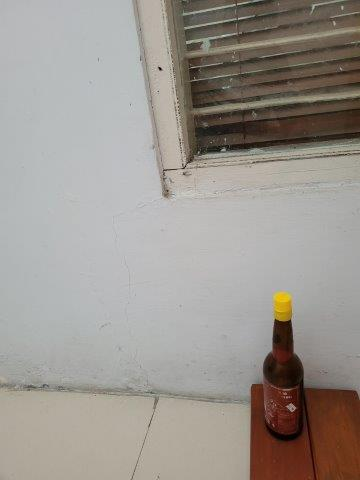botolkaca: (263, 294, 303, 439)
